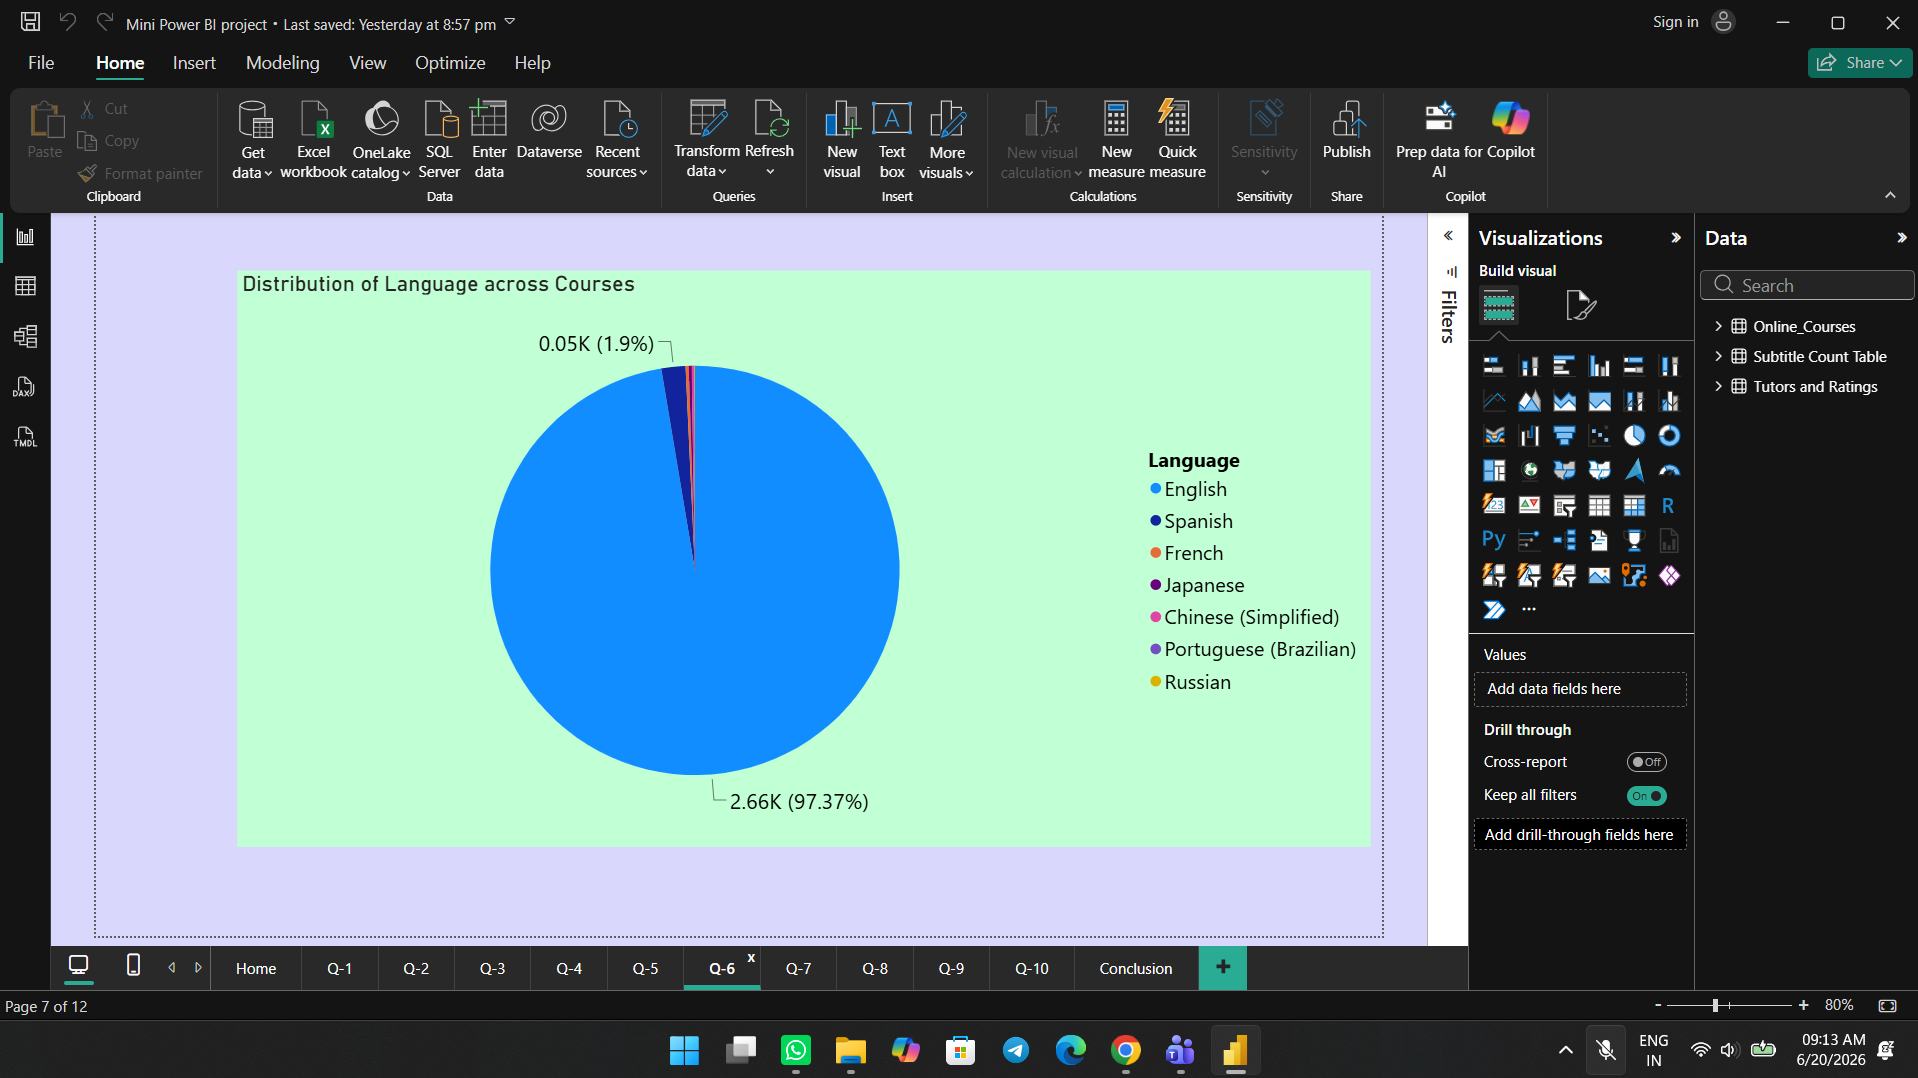

The dashboard page shown, as its layout file describes it:
{"tool":"powerbi","page":{"name":"Q-6","canvas":[1280,720],"ordinal":6},"visuals":[{"type":"pieChart","title":"Distribution of Language across Courses","fields":{"Category":["Online_Courses.Language","Online_Courses.Category"],"Y":["CountNonNull(Online_Courses.CourseID)"]},"box":[140,56.7,1128.3,573.3],"z":0}]}

Visuals, with their boxes on the page's 1280x720 design canvas (x1, y1, x2, y2). These are canvas units, not pixel positions in the 1918x1078 screenshot, which may show the page scaled, cropped or inside an application window:
"Distribution of Language across Courses" pieChart: 140:57:1268:630
